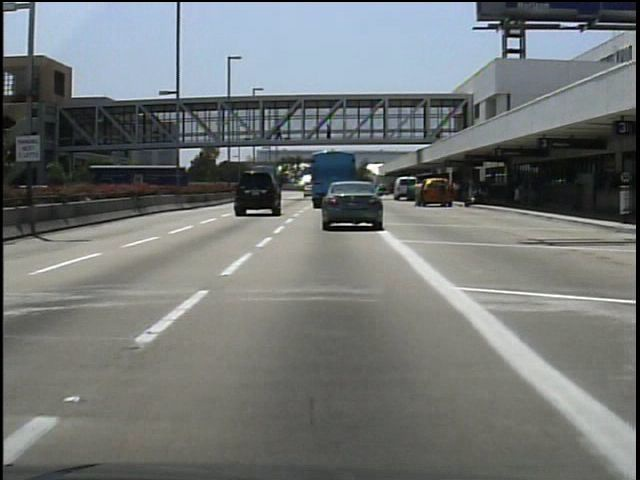person: (435, 176, 452, 211), (409, 179, 427, 209), (323, 120, 336, 147), (274, 118, 288, 140)
